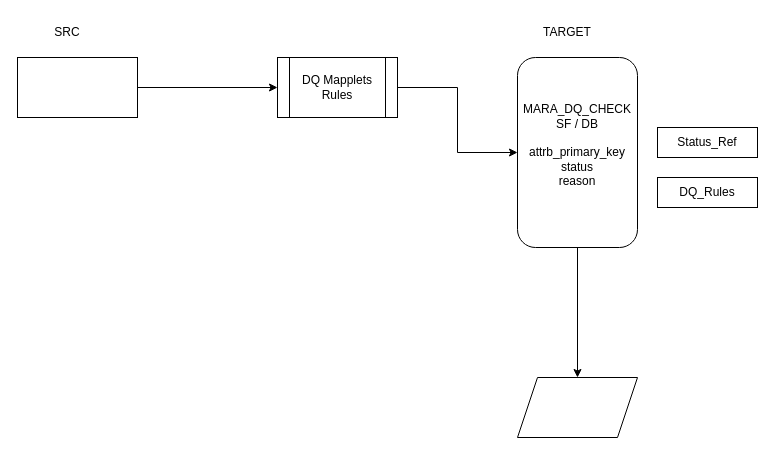
Some shapes in this 775 by 455 pixel diagram are drawn without their labels. The centre of each missing label's shape, as x and y in pixels:
"Reports" goes at point 577,407.
"SAP HANA (MARA) 40 attrb" goes at point 77,87.
